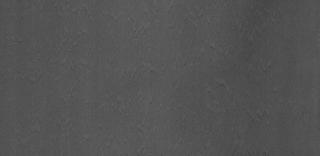silk spot: (178, 26, 240, 124), (110, 24, 170, 122), (248, 22, 292, 123)
